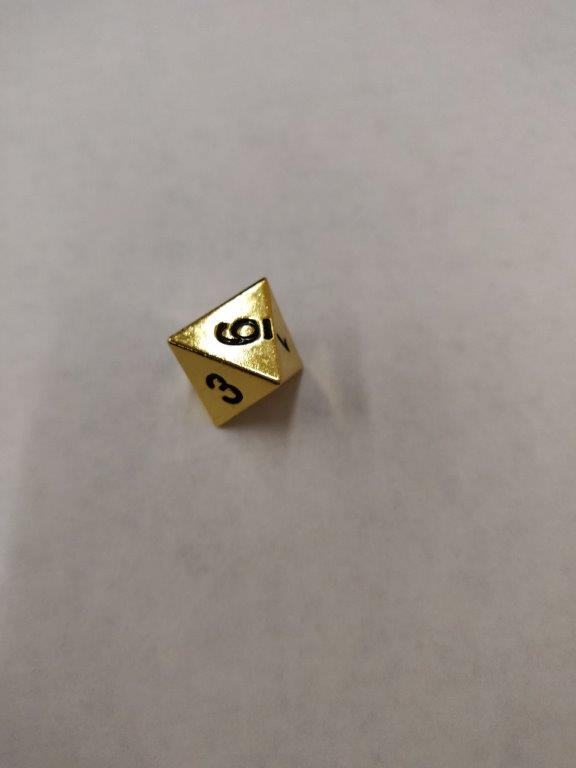d8-6: (165, 274, 307, 429)
